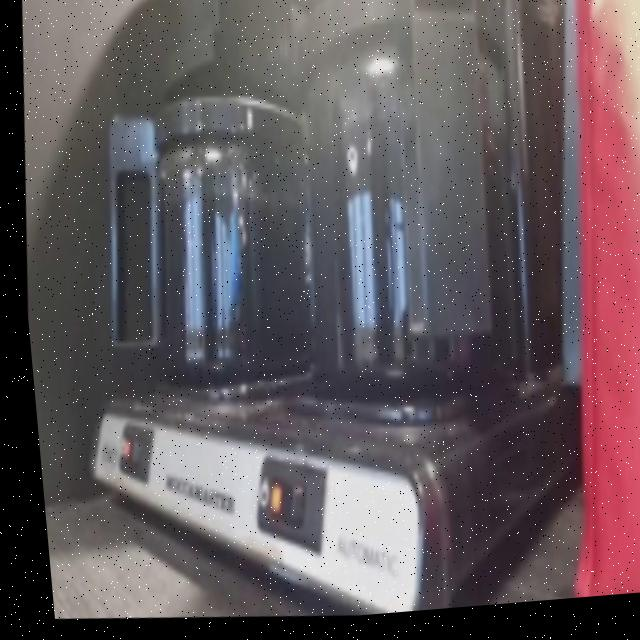coffee: (288, 110, 521, 400), (131, 154, 312, 403)
